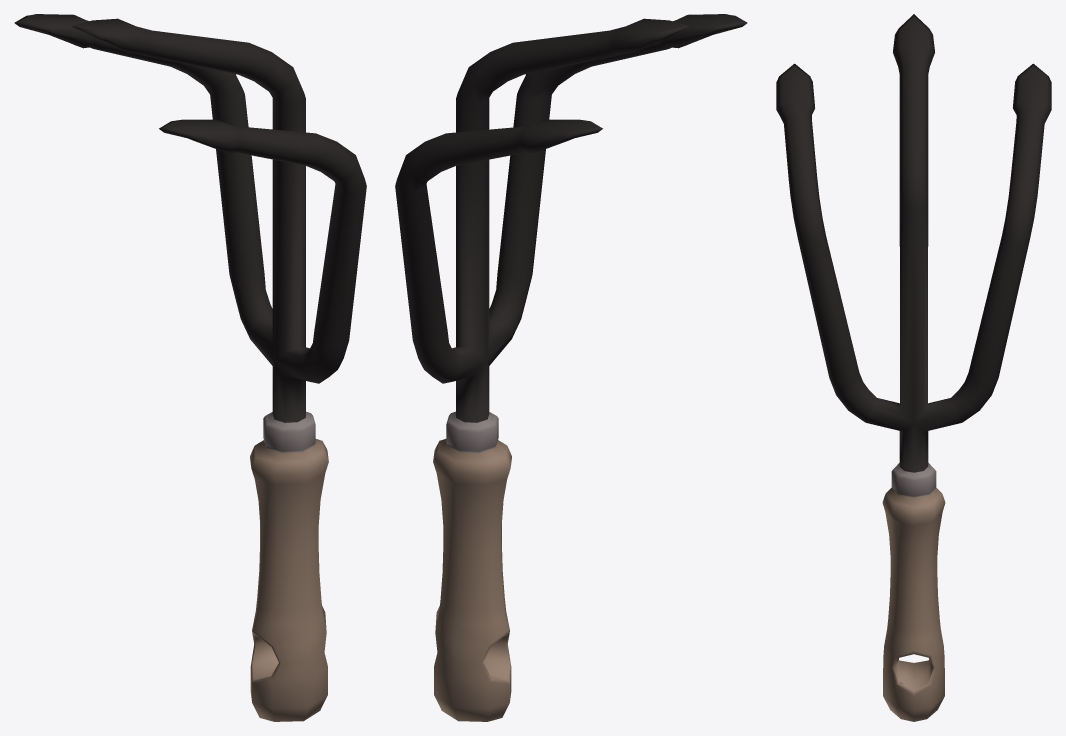
The model's file is SM_Tiller.fbx.
3 views of the same model, side by side, from view 1: azimuth 30°, elevation 25°; view 2: azimuth 150°, elevation 25°; view 3: azimuth 270°, elevation 25° (orthographic). The views are drawn at different scales.
Visible parts, largest first — view 1: Tiller; view 2: Tiller; view 3: Tiller.
Boxes of the visible parts, x1,y1,x2,y2 form: Tiller: (14, 14, 366, 721); Tiller: (395, 14, 747, 721); Tiller: (776, 14, 1051, 721).
Bounding box in the file's own units: 19.16 × 53.27 × 21.66.
